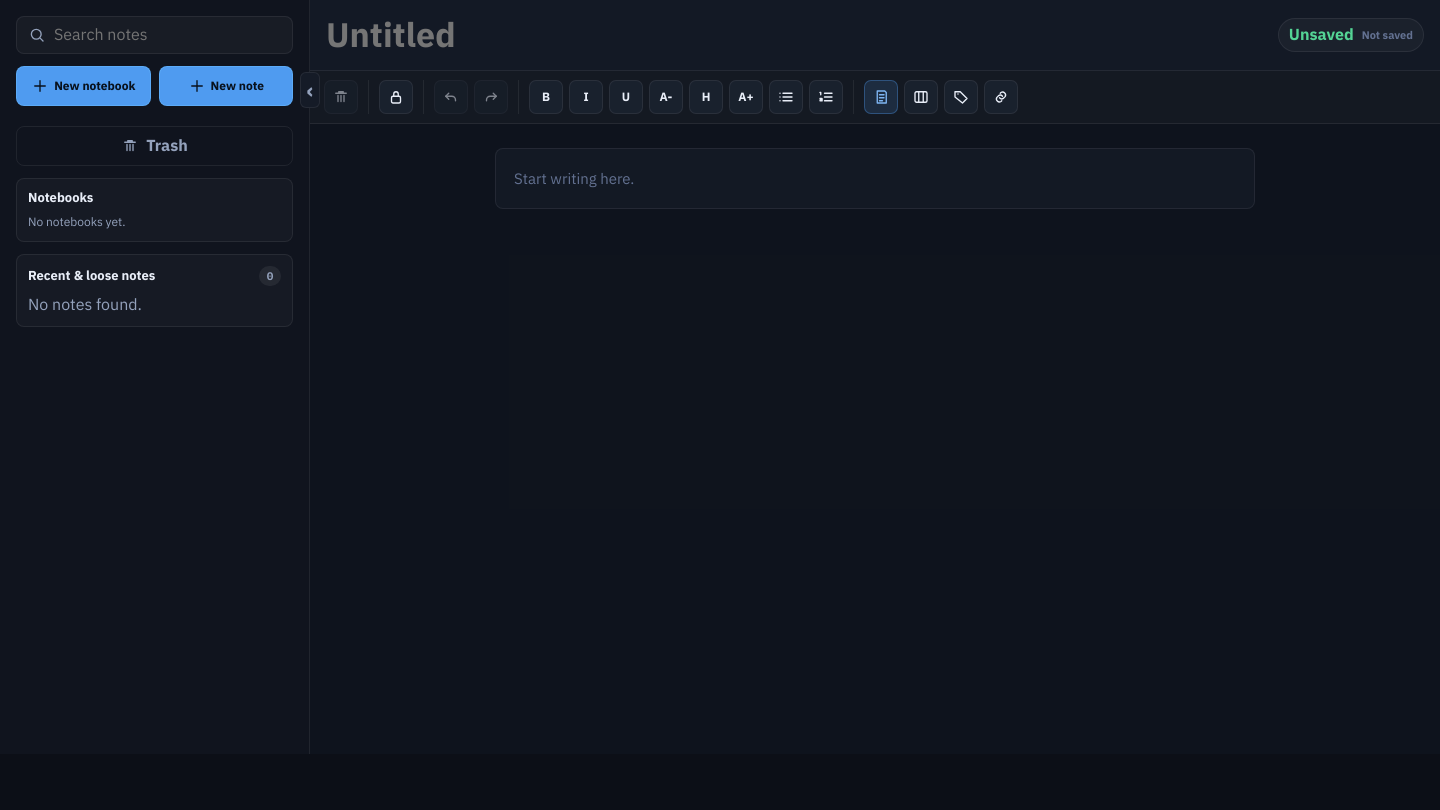
Test: ProfileNotesPage › opens a recycling bin with restorable notes
The width and height of the screenshot is (1440, 810).
What coordinates should you click on to do the following:
click the button "Trash"
I would click on:
 (154, 146)
Its box is [16,126,293,166].
(page scrolled)
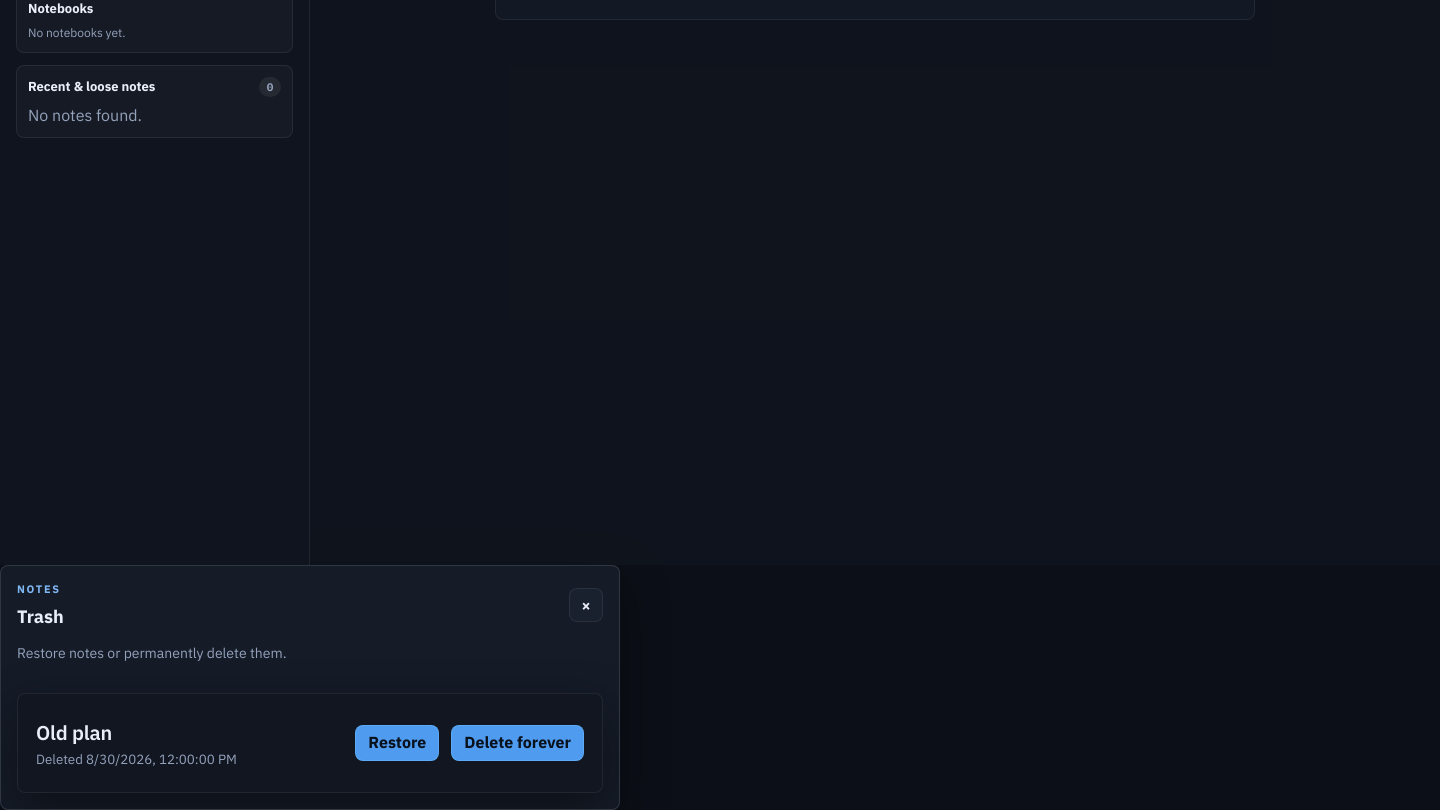
expect the dialog "Trash" is shown: met, box [0,565,620,809]
expect the text "Old plan" is shown: met, box [36,719,112,746]
expect the button "Restore" is shown: met, box [355,725,439,761]
